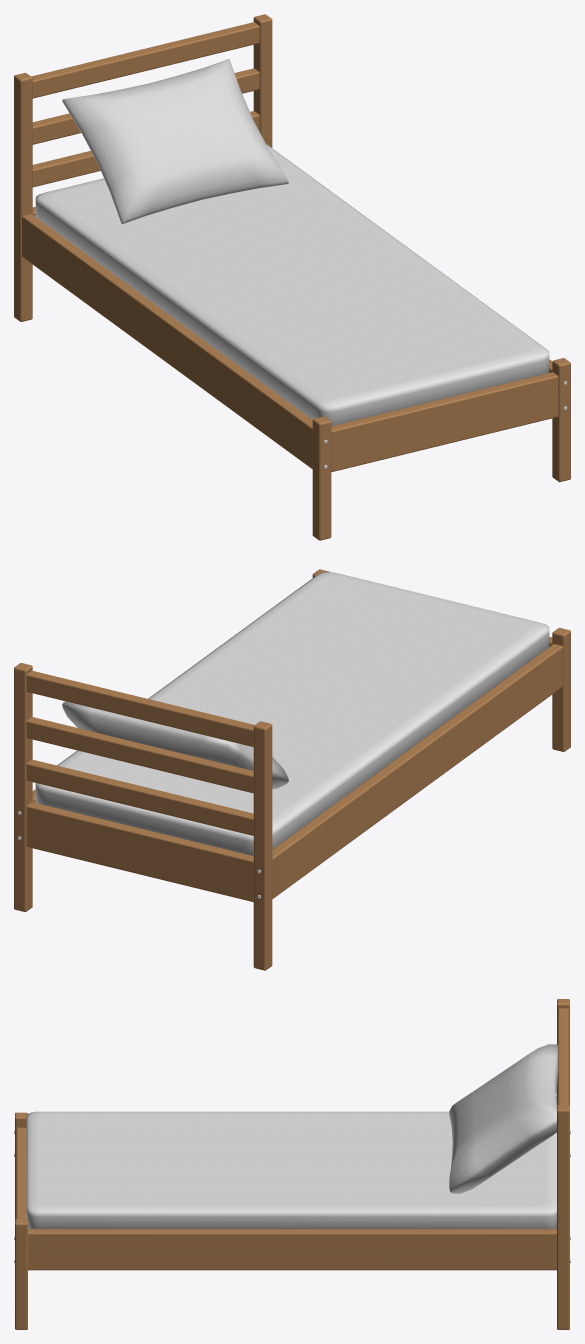
3 renders of one model, top to bottom at view 1: azimuth 30°, elevation 25°; view 2: azimuth 150°, elevation 25°; view 3: azimuth 270°, elevation 25°, orthographic. The views are drawn at different scales.
Visible parts, largest first — view 1: Bed Mattress, Bed Frame, Bed Pillow; view 2: Bed Mattress, Bed Frame, Bed Pillow; view 3: Bed Mattress, Bed Frame, Bed Pillow.
Part boxes in pixels (x1,y1,x2,y2): Bed Mattress: [35, 144, 549, 425]; Bed Frame: [14, 14, 570, 540]; Bed Pillow: [62, 59, 288, 224]; Bed Mattress: [35, 572, 549, 855]; Bed Frame: [14, 569, 570, 970]; Bed Pillow: [62, 701, 288, 788]; Bed Mattress: [26, 1111, 556, 1228]; Bed Frame: [14, 999, 570, 1329]; Bed Pillow: [449, 1044, 558, 1193].
Bounding box in the file's own units: 100 × 91.85 × 211.
Materials: 3 (3 with a texture image).
